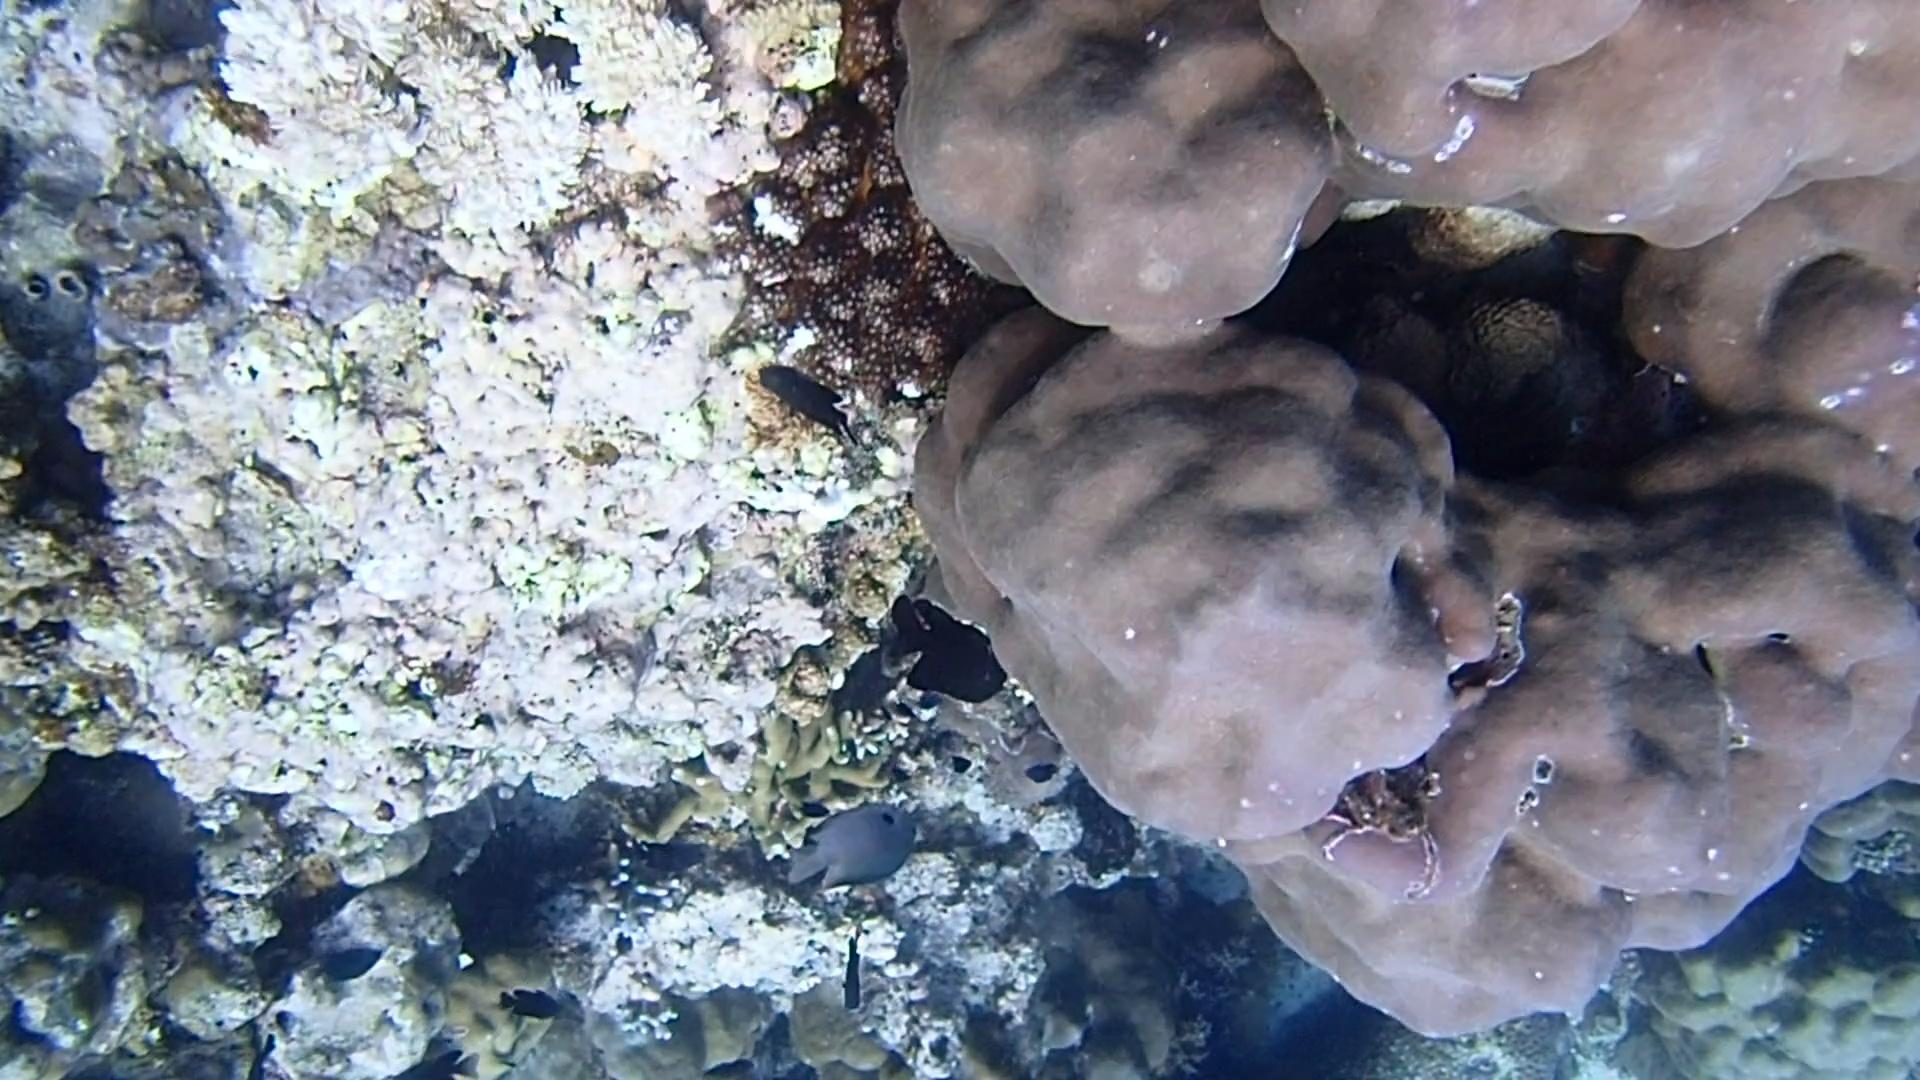Dark Fish: (878, 587, 1017, 709), (746, 355, 858, 454), (835, 924, 876, 1018), (306, 944, 384, 985), (632, 836, 709, 877), (500, 992, 564, 1023), (1023, 754, 1062, 790)
Light Fish - Dark Fin: (777, 796, 926, 901)
